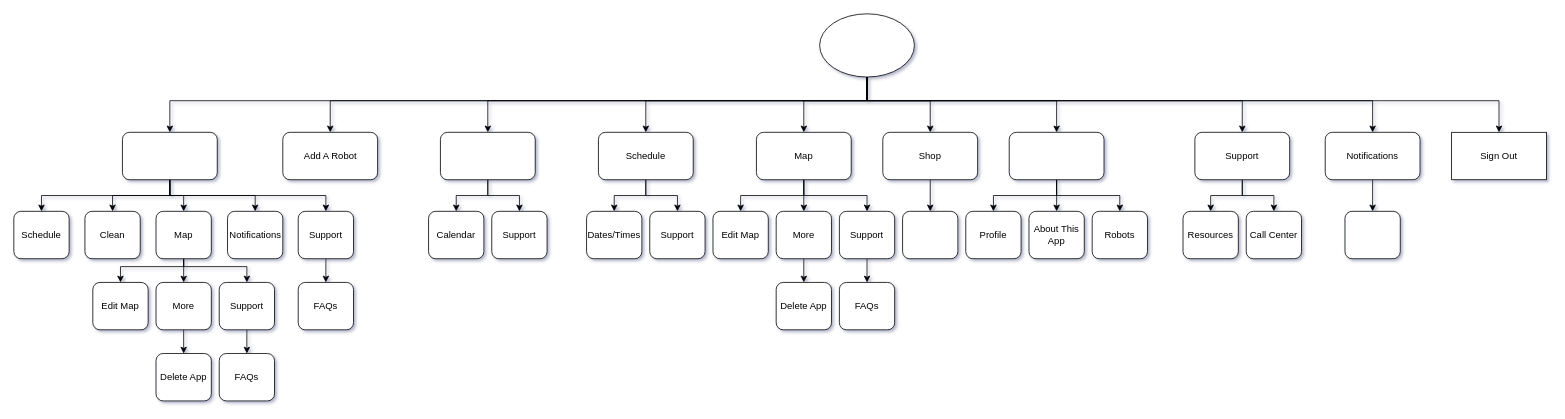
Some shapes in this 1565 by 419 pixel diagram are drawn without their labels. The shapes that lost their labels are listed below. From the top down, each one's centre as x and y in pixels, then its label:
[866,45]: Shark App
[169,156]: Home
[487,156]: History
[1056,156]: Settings
[930,235]: Direct to Website
[1372,235]: Manage Notifications
